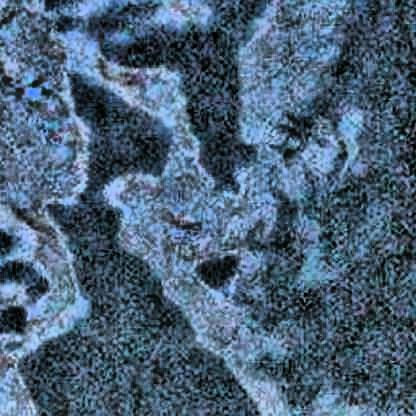sheen: (0, 2, 370, 416)
